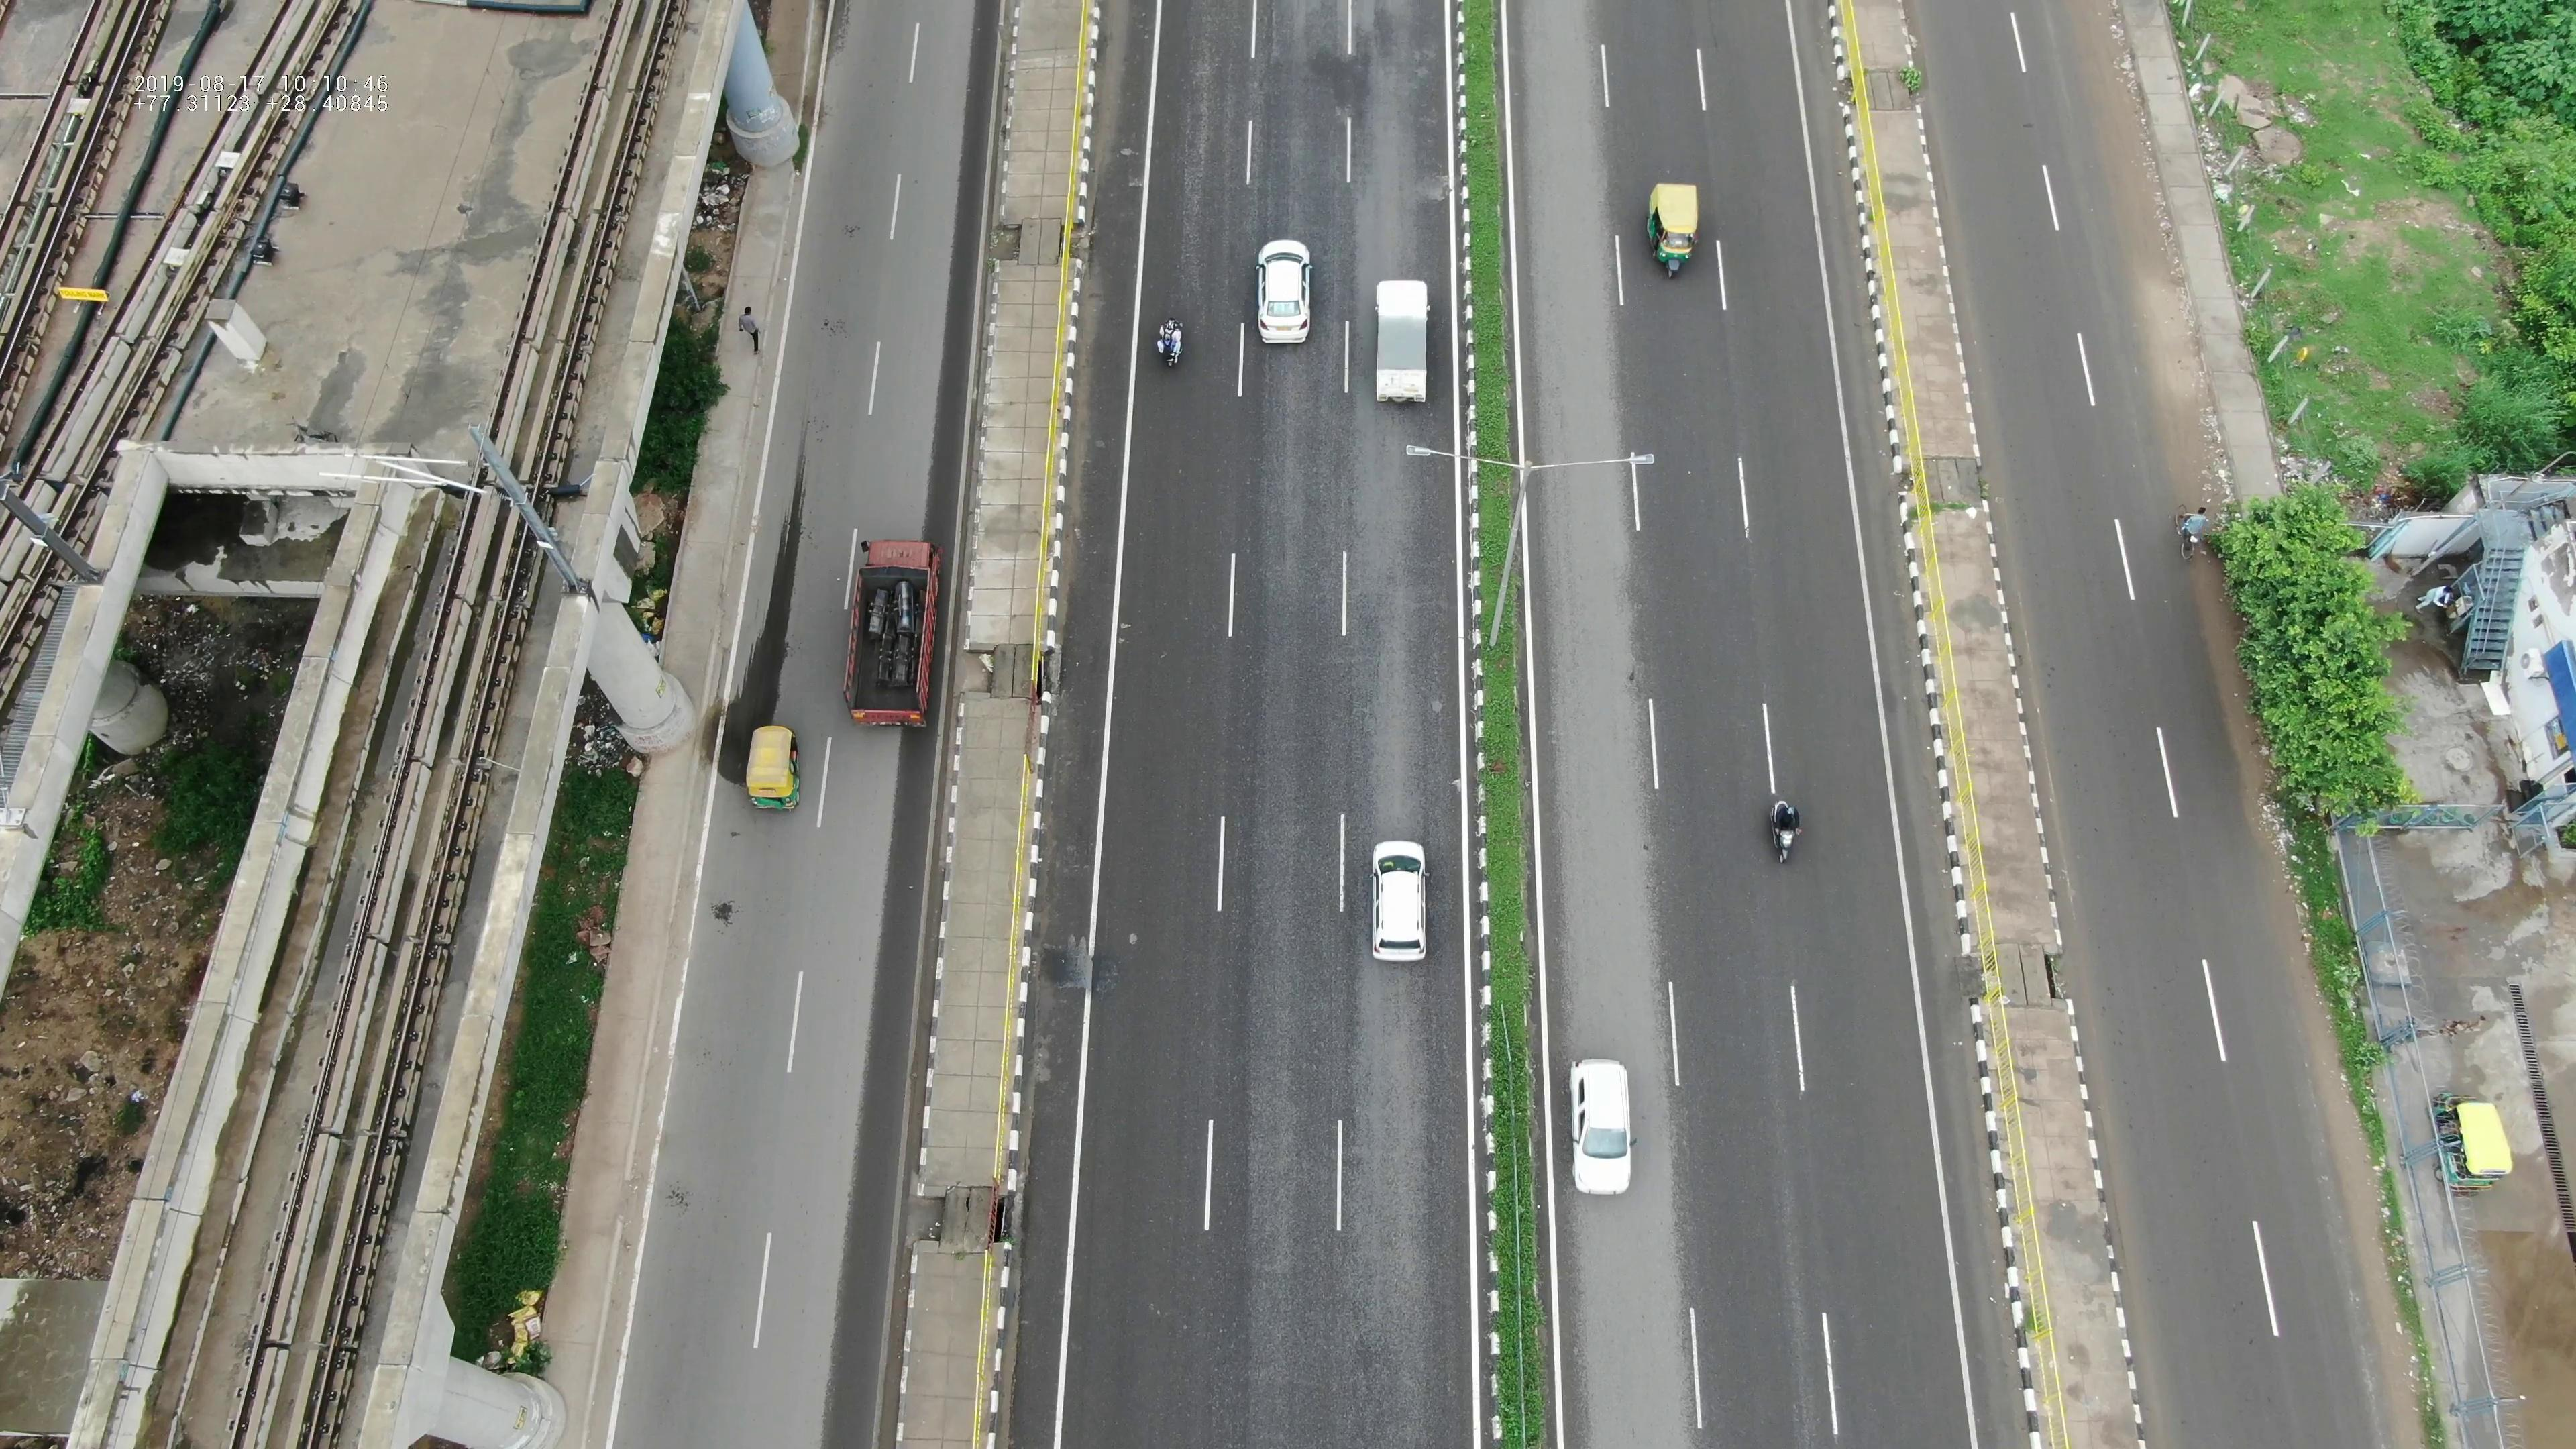Muddy_road: (2089, 99, 2194, 395)
